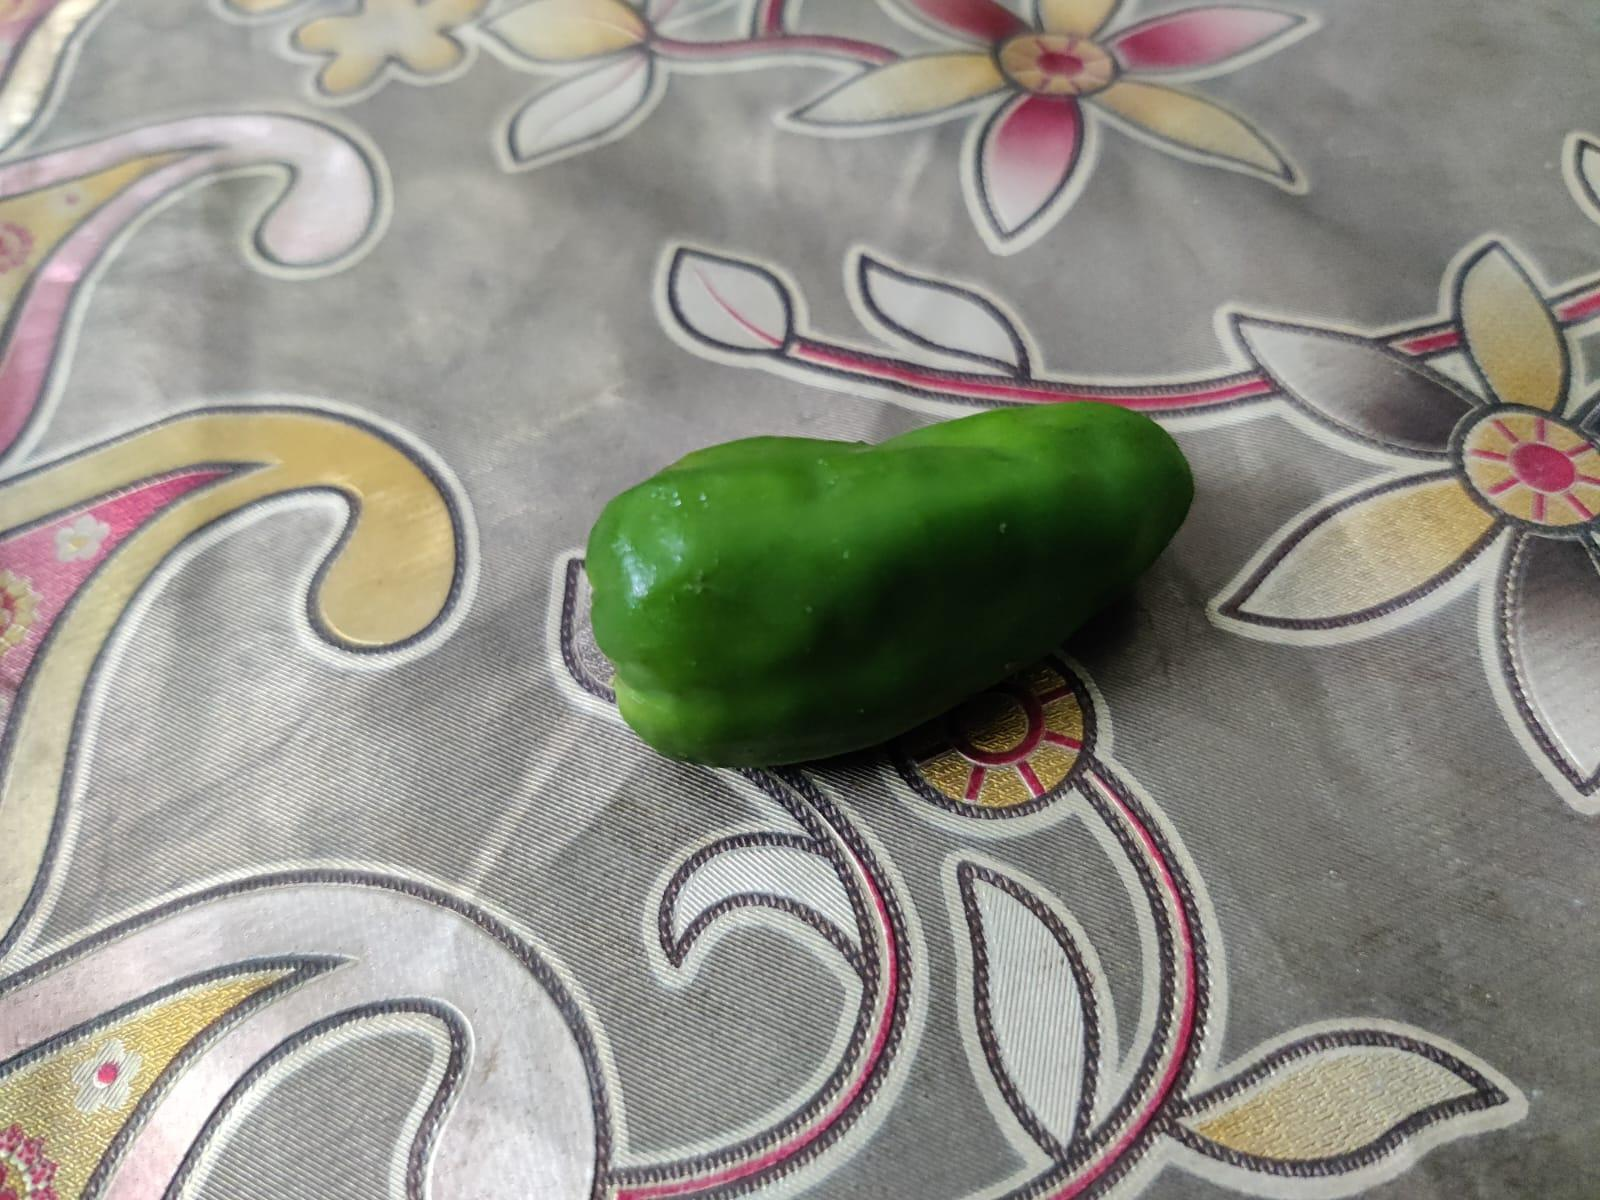non-mango: (577, 391, 1198, 771)
